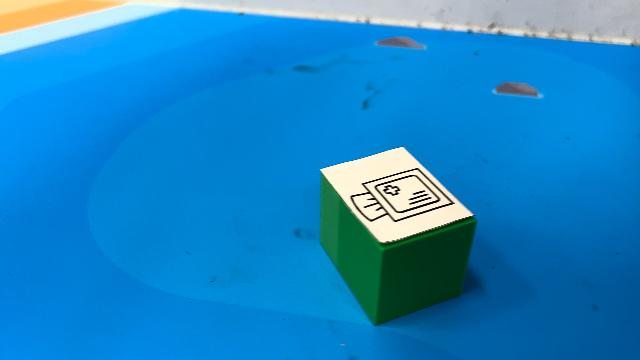napkin: (317, 145, 478, 327)
